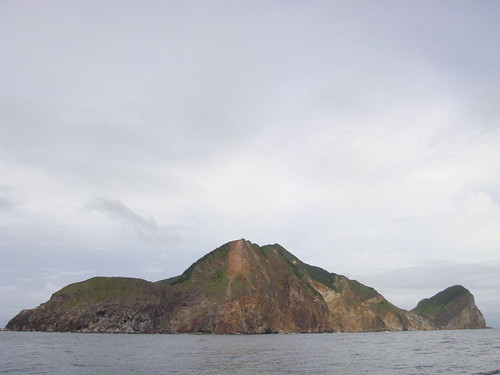turtleIsland: (8, 240, 487, 331)
